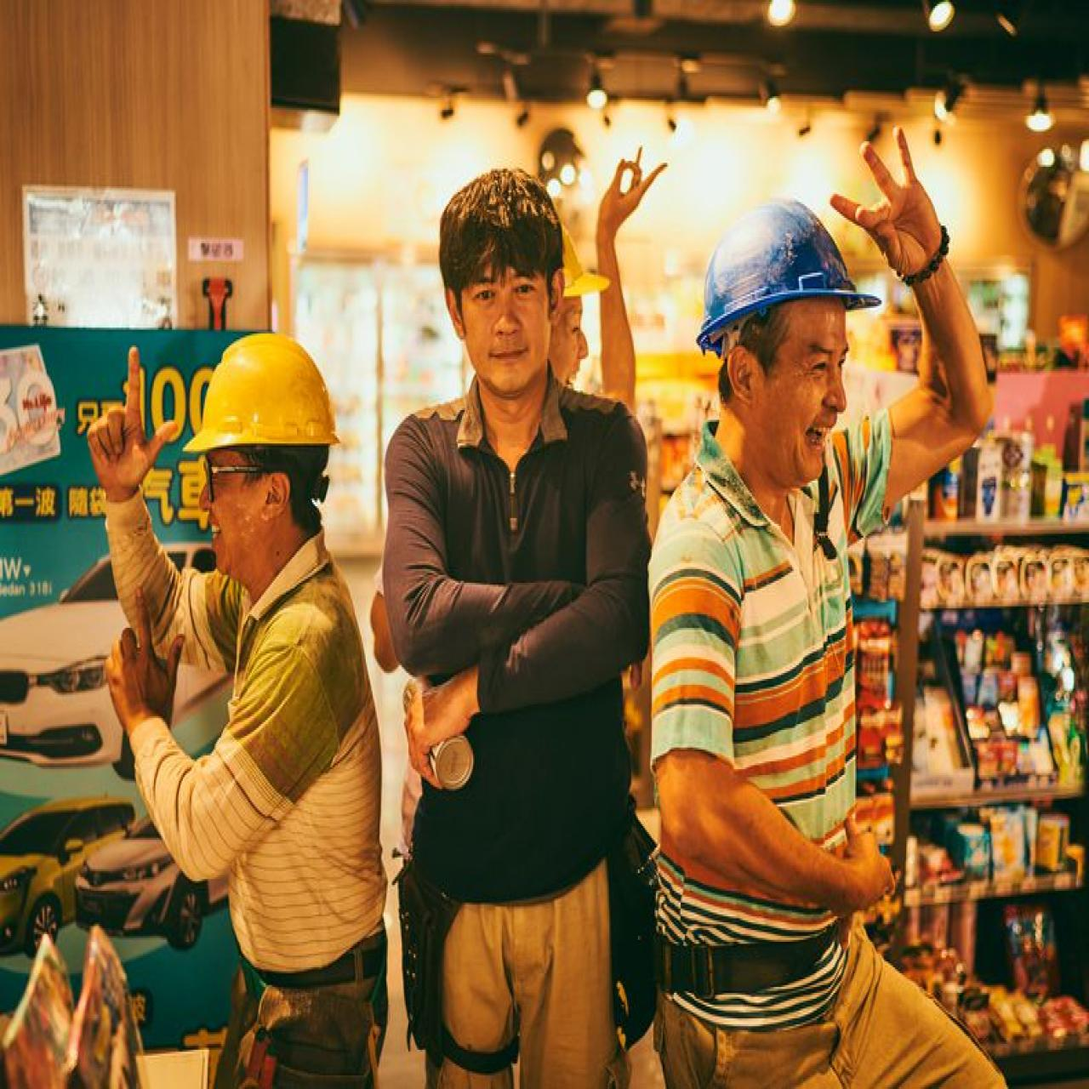NO_Safety_Vest: (407, 409, 617, 871), (666, 479, 858, 941), (206, 577, 394, 979)
Person: (648, 192, 1014, 1089), (366, 150, 665, 1089), (58, 306, 394, 1089)
